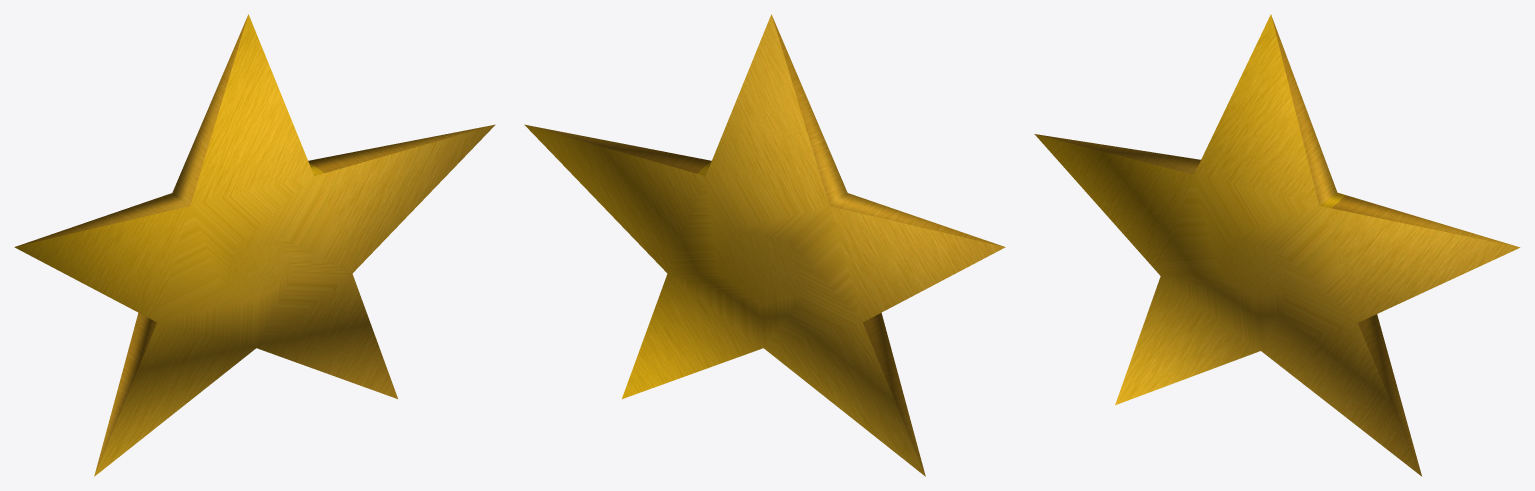
File: estrela.fbx
3 views of the same model, side by side, from view 1: azimuth 30°, elevation 25°; view 2: azimuth 150°, elevation 25°; view 3: azimuth 330°, elevation 25° (orthographic).
Parts seen in each view (by area): view 1: Plane; view 2: Plane; view 3: Plane.
Part boxes in pixels (bbox=[...]): Plane: bbox=[14, 14, 495, 476]; Plane: bbox=[524, 14, 1005, 476]; Plane: bbox=[1034, 14, 1520, 476].
Size of the model in its own units: 3.98 by 3.35 by 0.3737.
